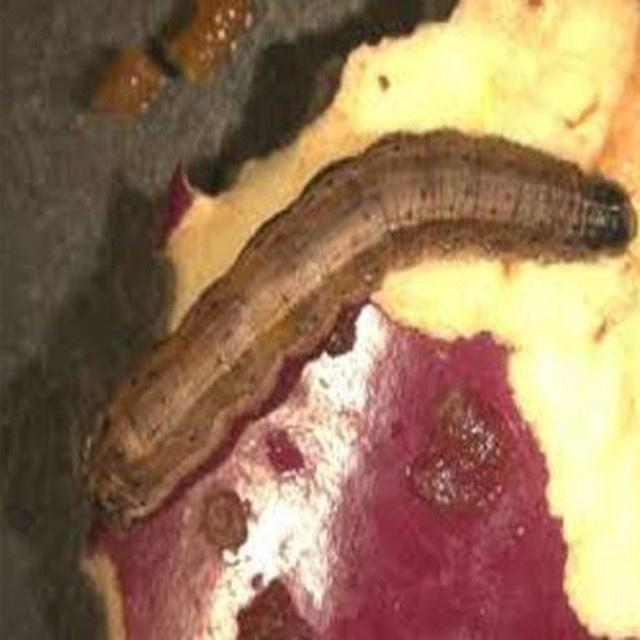gusano_cogollero: (85, 128, 637, 518)
